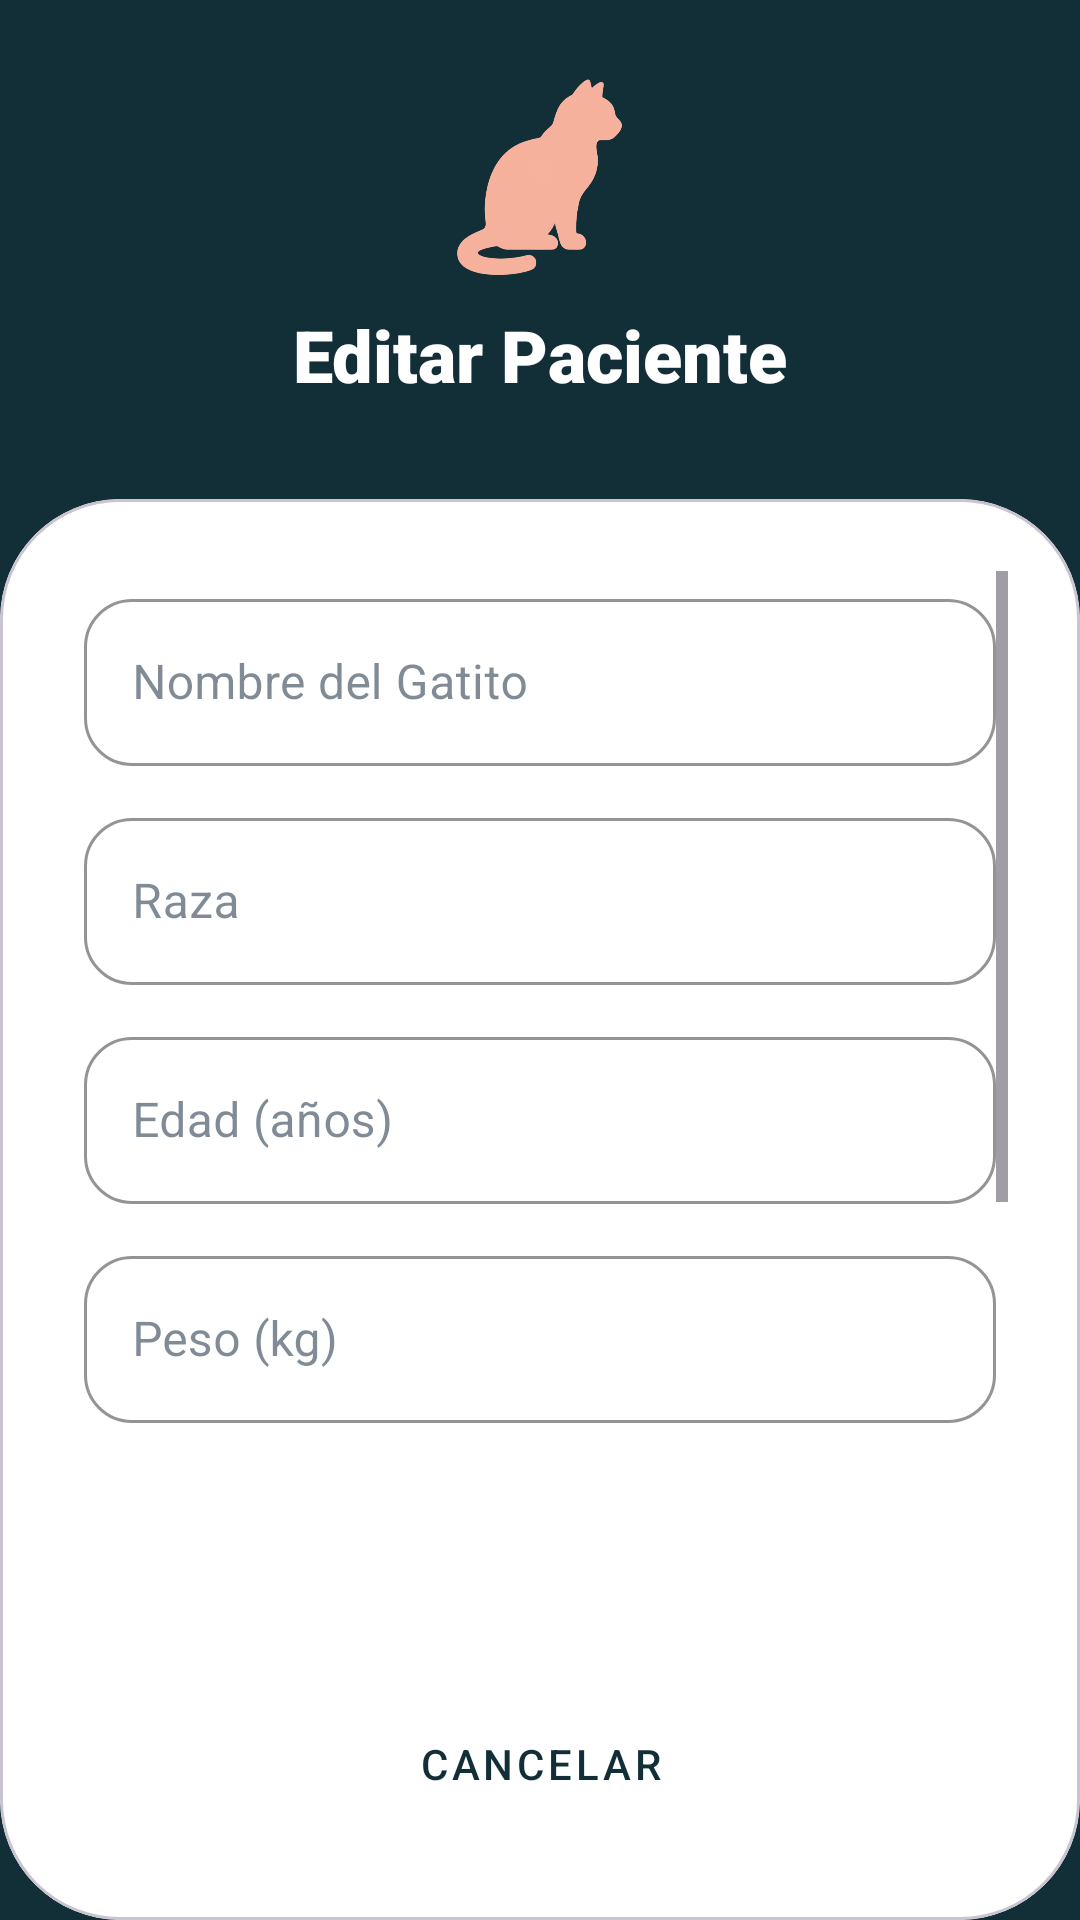

Icon bounding boxes for this 1080px×1920px phone screenshot, format [left=x1, top=y1, right=x2, bottom=y2]:
cat: [left=457, top=79, right=622, bottom=275]
